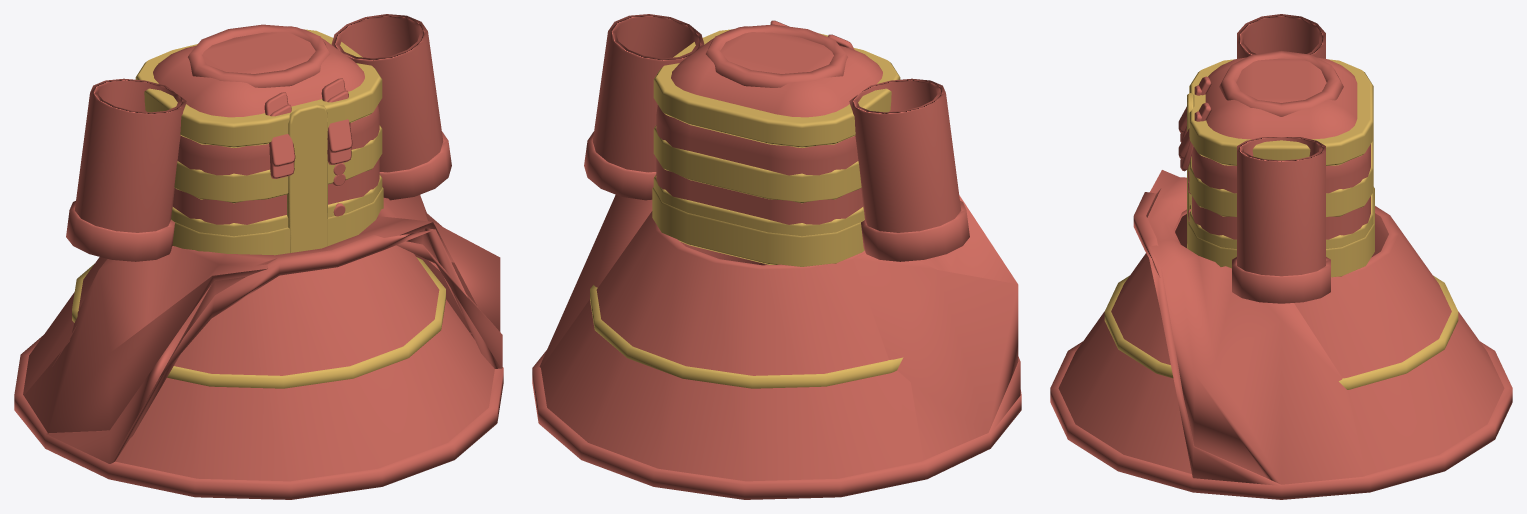
File: bekasab_robe.glb
3 renders of one model, left to right at view 1: azimuth 30°, elevation 25°; view 2: azimuth 150°, elevation 25°; view 3: azimuth 270°, elevation 25°, orthographic. The views are drawn at different scales.
Parts seen in each view (by area): view 1: bekasab_robe_Body, bekasab_robe_Body_sit, bekasab_robe_ArmL, bekasab_robe_ArmR; view 2: bekasab_robe_Body, bekasab_robe_Body_sit, bekasab_robe_ArmL, bekasab_robe_ArmR; view 3: bekasab_robe_Body, bekasab_robe_Body_sit, bekasab_robe_ArmR, bekasab_robe_ArmL.
Part boxes in pixels (box(x1,y1,x2,y2)): bekasab_robe_Body: box(14, 24, 503, 499); bekasab_robe_Body_sit: box(24, 29, 502, 463); bekasab_robe_ArmL: box(66, 78, 186, 261); bekasab_robe_ArmR: box(331, 14, 451, 200); bekasab_robe_Body: box(532, 24, 1021, 499); bekasab_robe_Body_sit: box(539, 20, 1020, 460); bekasab_robe_ArmL: box(849, 78, 969, 261); bekasab_robe_ArmR: box(584, 14, 704, 200); bekasab_robe_Body: box(1050, 51, 1512, 499); bekasab_robe_Body_sit: box(1133, 59, 1381, 485); bekasab_robe_ArmR: box(1232, 137, 1330, 303); bekasab_robe_ArmL: box(1237, 14, 1325, 58).
Size of the model in its own units: 0.748 by 0.6269 by 0.748.
